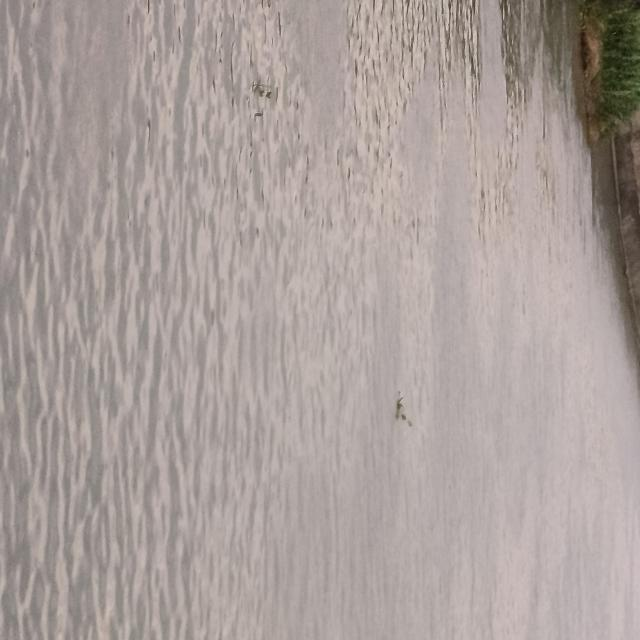Organic Debris: (387, 380, 415, 443)
